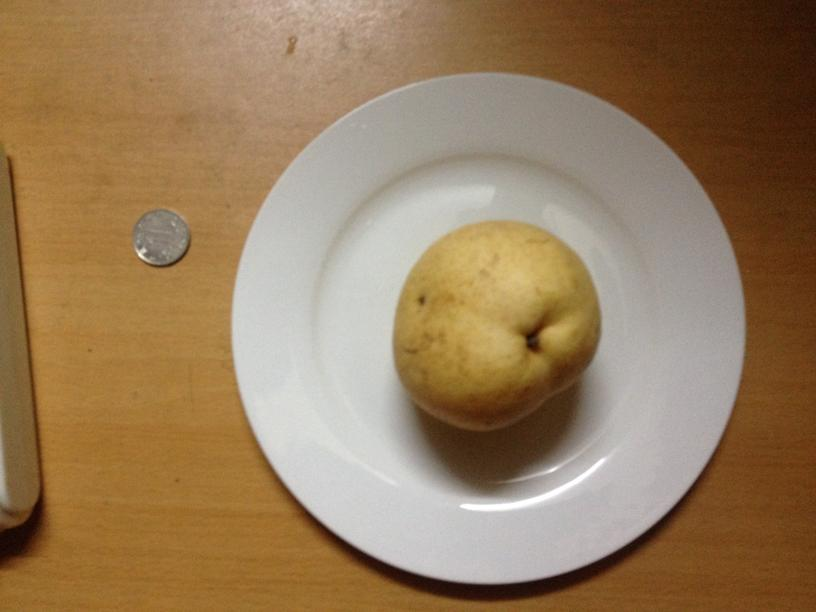coin: (129, 206, 192, 266)
pear: (390, 220, 602, 432)
